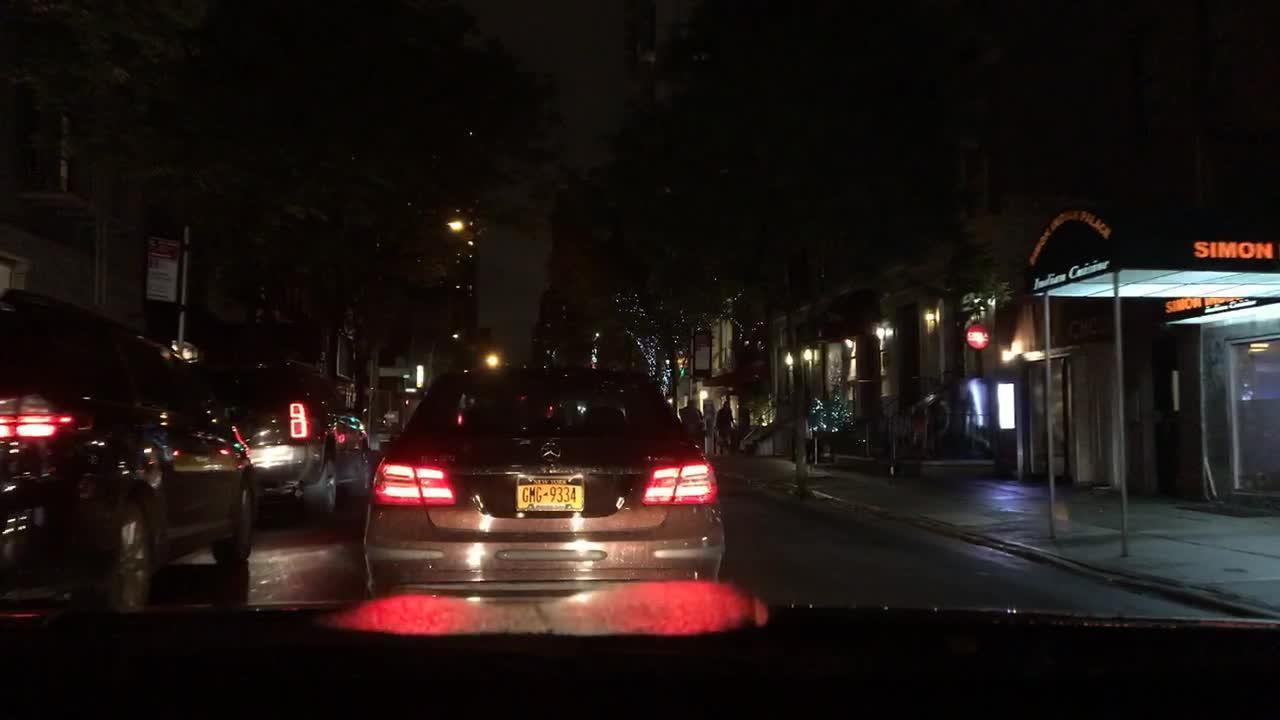Mercedes: (530, 439, 570, 467)
